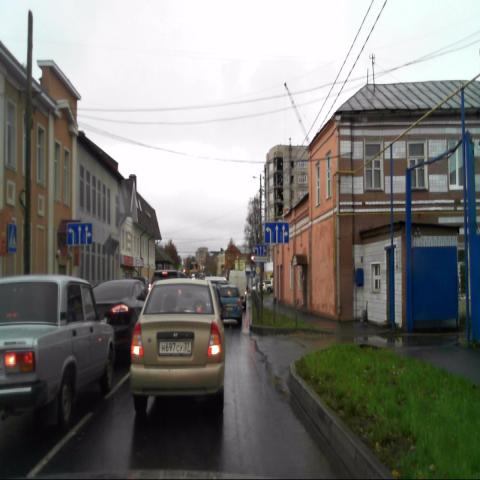5_15_1: (264, 222, 289, 243)
